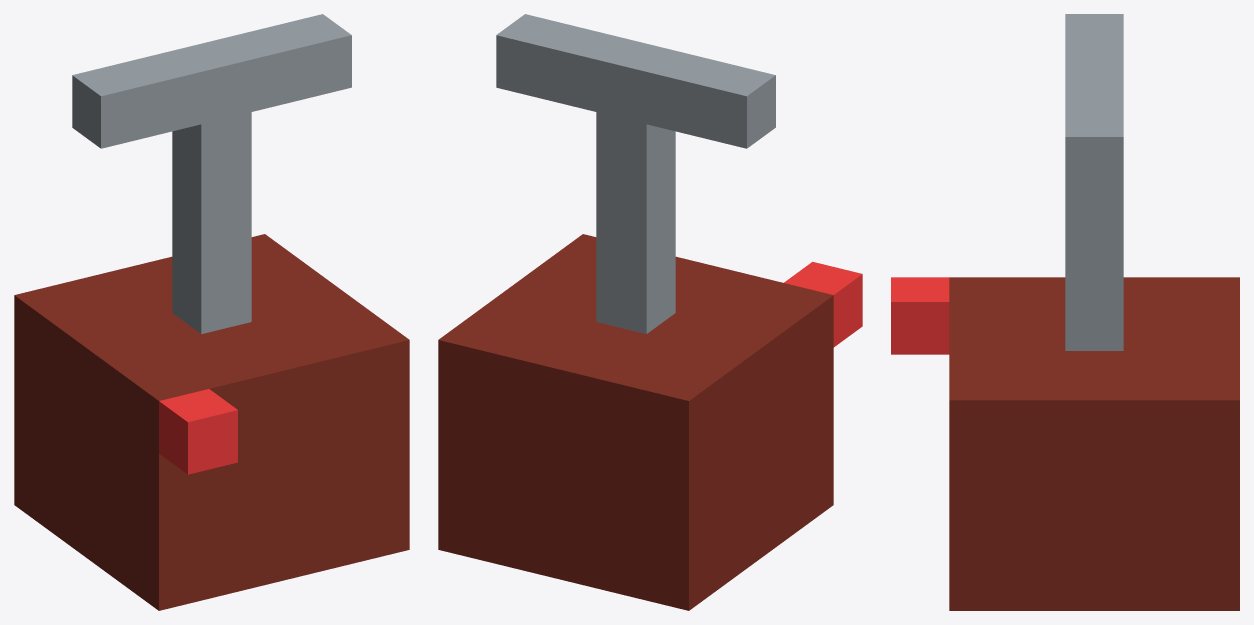
Rendered from vox_detonator.glb.
3 renders of one model, left to right at view 1: azimuth 30°, elevation 25°; view 2: azimuth 150°, elevation 25°; view 3: azimuth 270°, elevation 25°, orthographic.
Visible parts, largest first — view 1: vox_detonator; view 2: vox_detonator; view 3: vox_detonator.
Part boxes in pixels (x1,y1,x2,y2): vox_detonator: (14, 14, 409, 610); vox_detonator: (438, 14, 862, 610); vox_detonator: (891, 14, 1239, 610).
Size of the model in its own units: 0.1 by 0.18 by 0.12.
